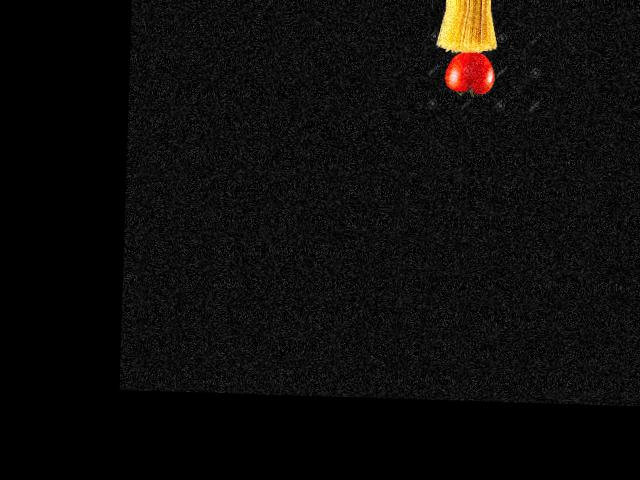tomato: (444, 51, 494, 94)
